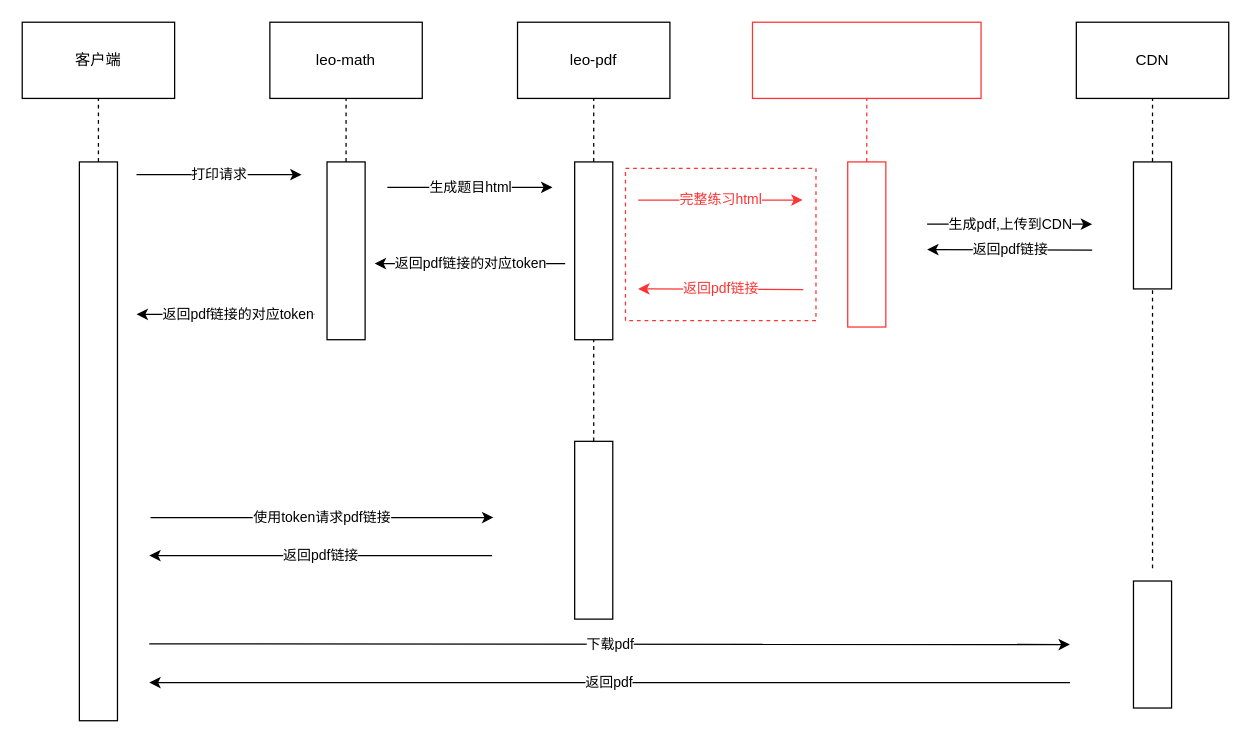
Some shapes in this 1251 by 743 pixel diagram are drawn without their labels. Here are the shapes that lost their labels. From the top down, the box of each, then its label:
(751, 21, 981, 98): leo-headlesschrome-node
(624, 167, 816, 321): HTTP通信
